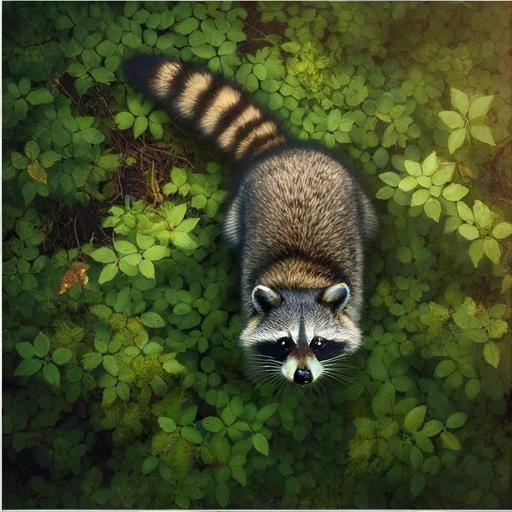raccoon: (117, 48, 388, 392)
